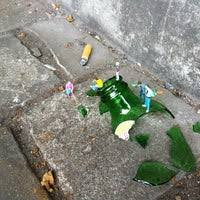glass: (97, 76, 179, 180)
paper: (80, 41, 94, 71)
